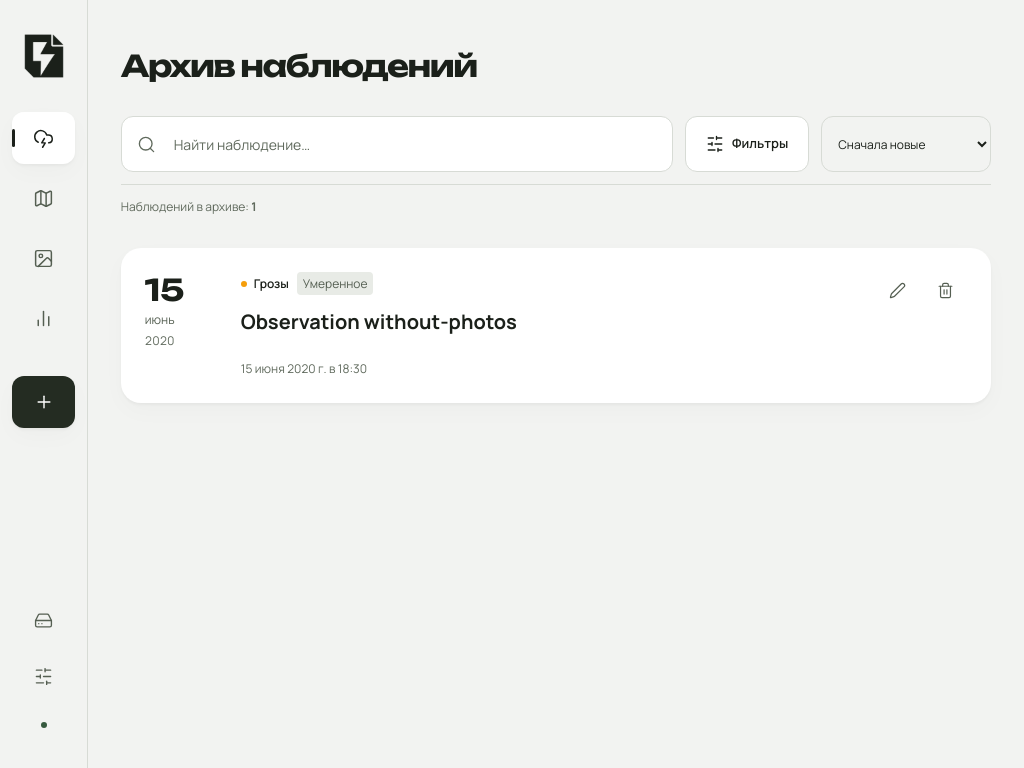
offers an existing archive when the gallery has no photos
Expected: the search field named "Поиск по архиву" is shown, [121,116,673,172]
Step 1. Click the button named "Галерея" → (44, 258), box [12,232,75,284]
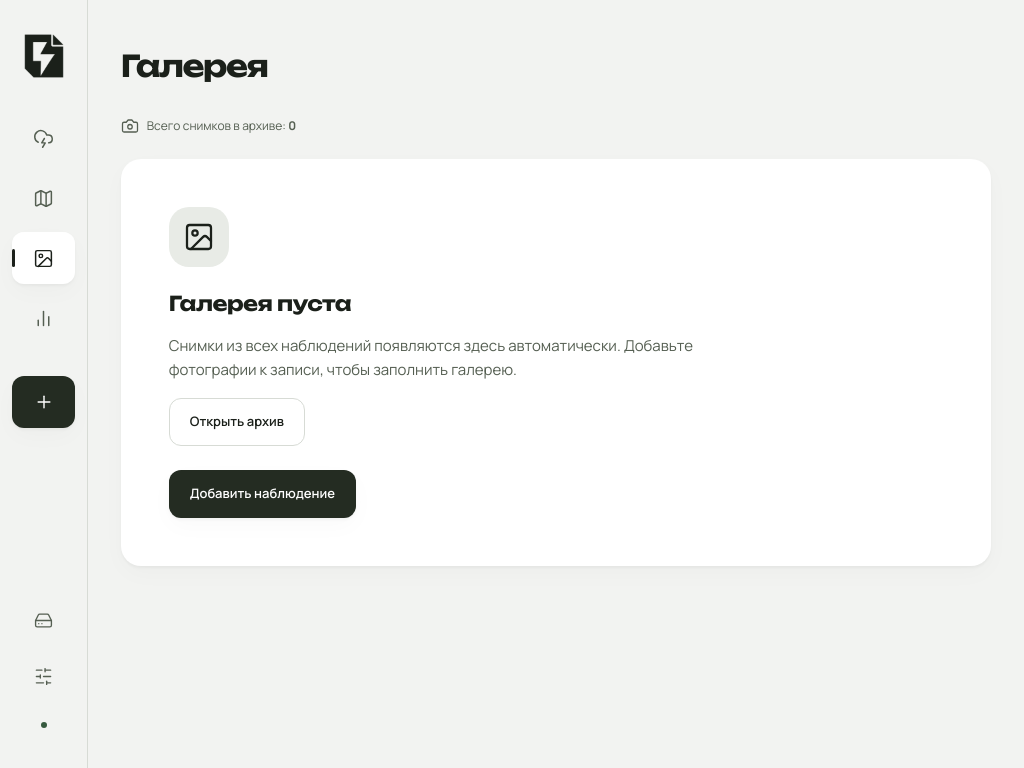
Step 2. Click the button "Открыть архив" → (237, 422), box [169,398,305,446]
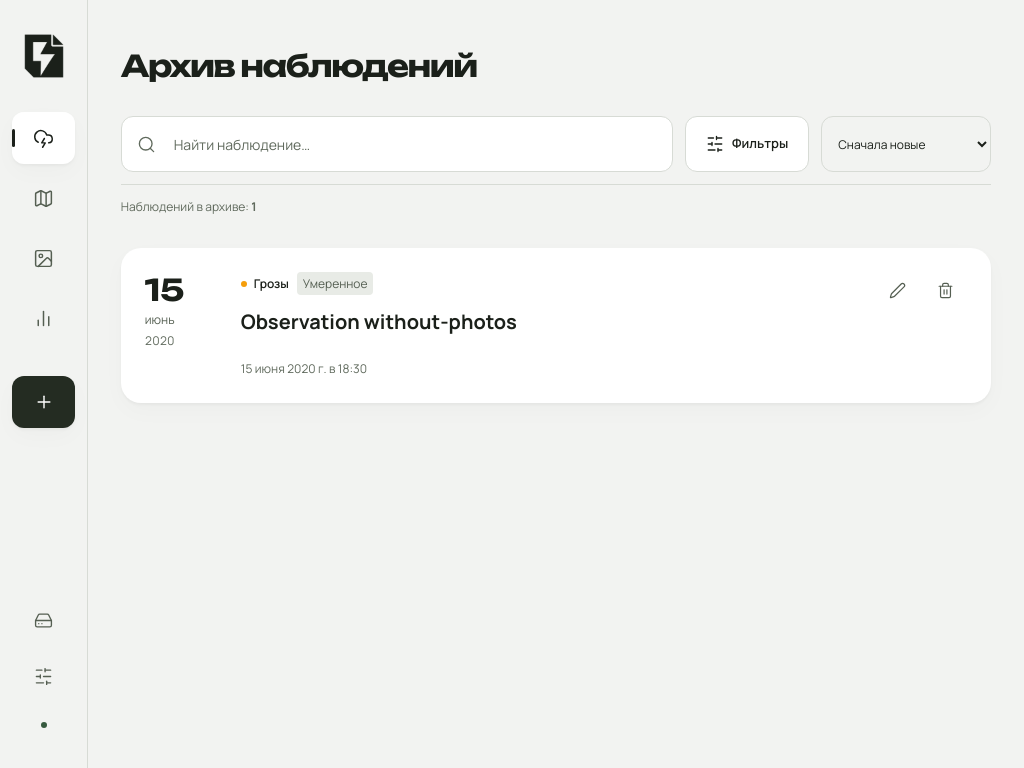
Now the button "Observation without-photos" is shown, box [241,299,517,343]
